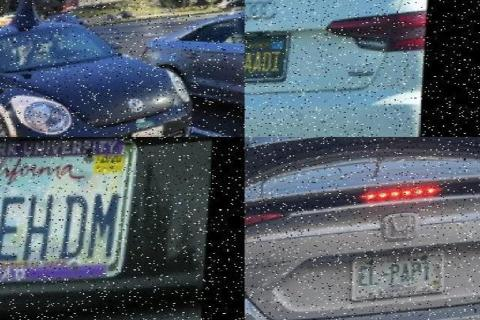LicensePlate: (0, 137, 130, 291), (353, 253, 446, 303), (245, 34, 291, 88)
